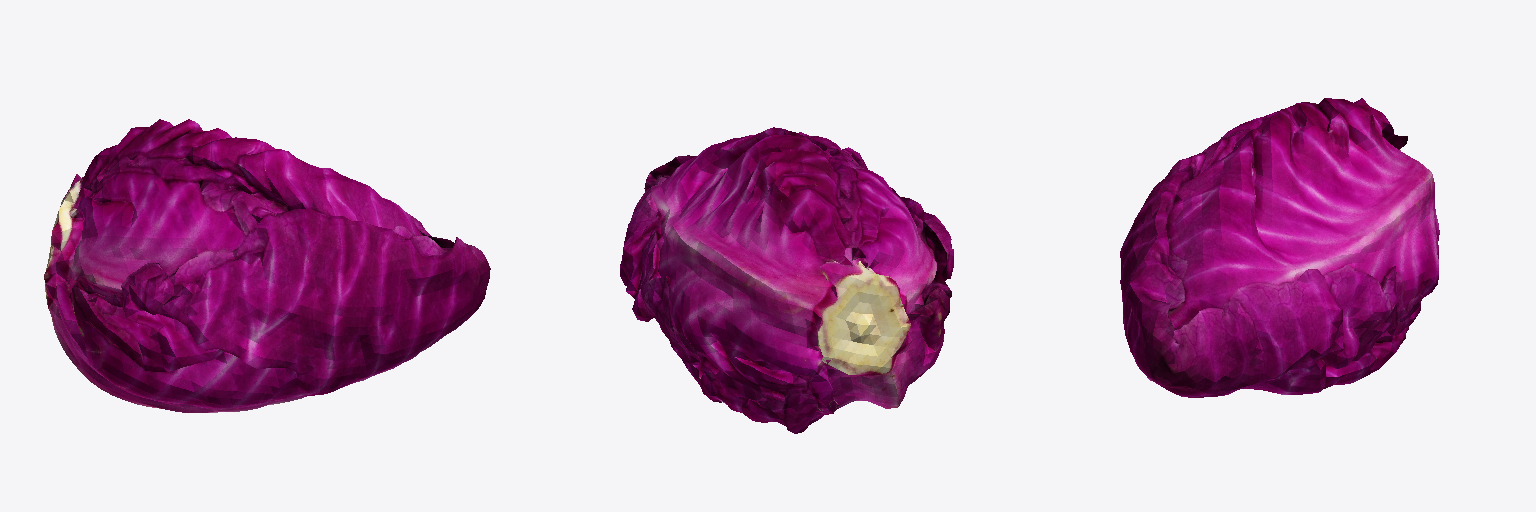
3 views of the same model, side by side, from view 1: azimuth 30°, elevation 25°; view 2: azimuth 150°, elevation 25°; view 3: azimuth 270°, elevation 25° (orthographic).
Parts seen in each view (by area): view 1: Red_pointed_cabbage; view 2: Red_pointed_cabbage; view 3: Red_pointed_cabbage.
Part boxes in pixels (x1,y1,x2,y2): Red_pointed_cabbage: (44,119,490,412); Red_pointed_cabbage: (620,127,953,433); Red_pointed_cabbage: (1120,98,1439,397).
Size of the model in its own units: 2.75 by 1.85 by 2.14.
1 materials, 1 textured.